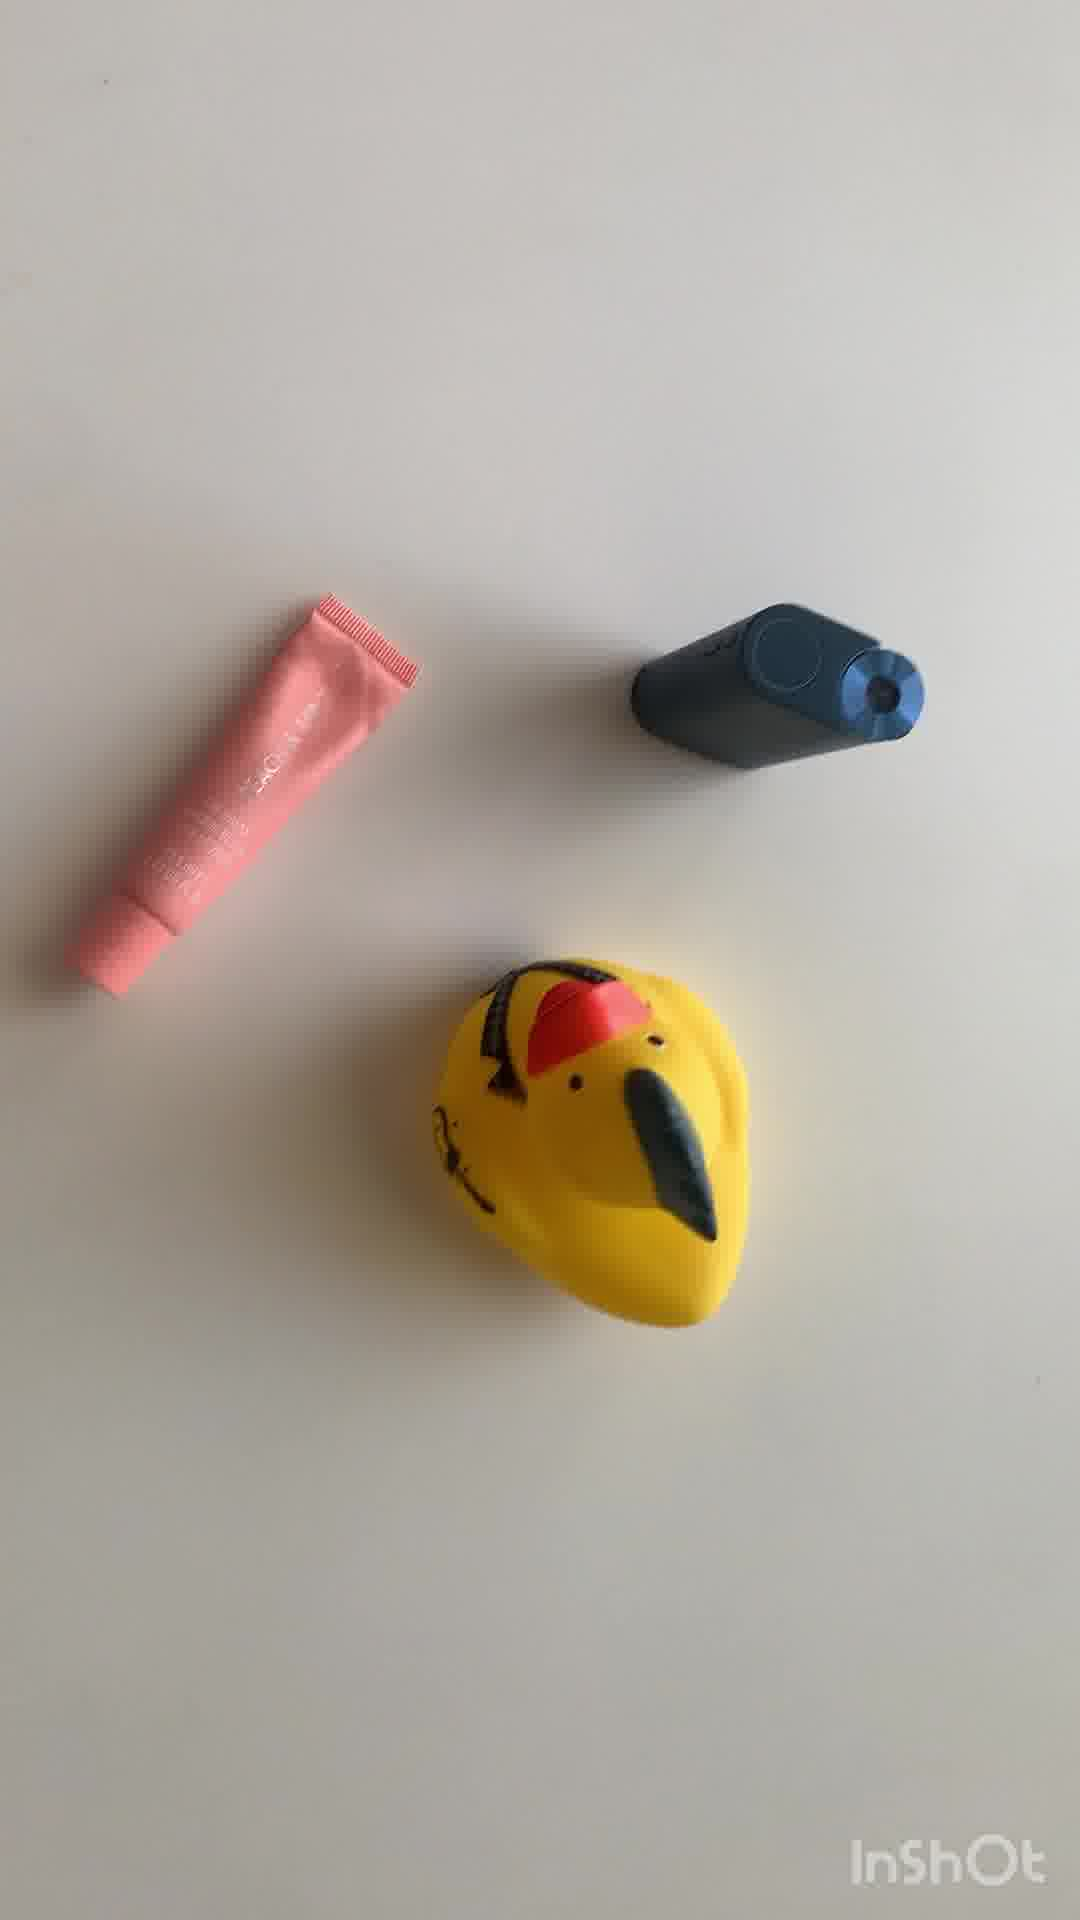duck: (429, 957, 756, 1338)
glo: (626, 600, 928, 777)
lip balm: (59, 593, 426, 1000)
